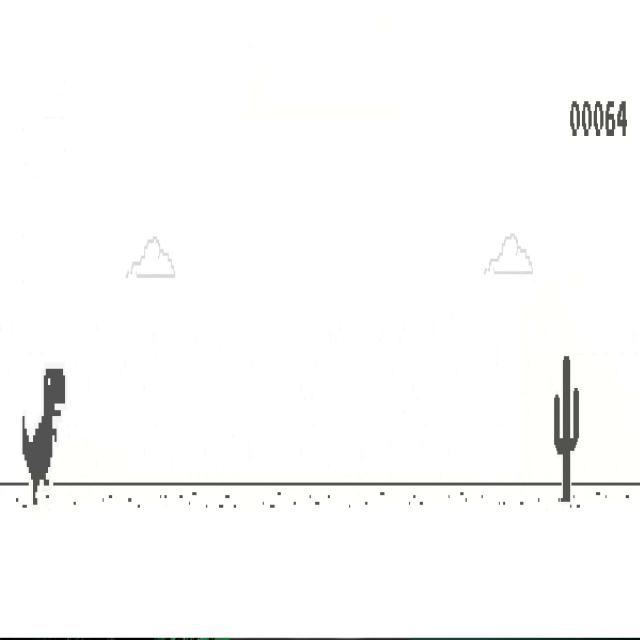cacto: (554, 354, 579, 502)
dino: (21, 368, 66, 506)
